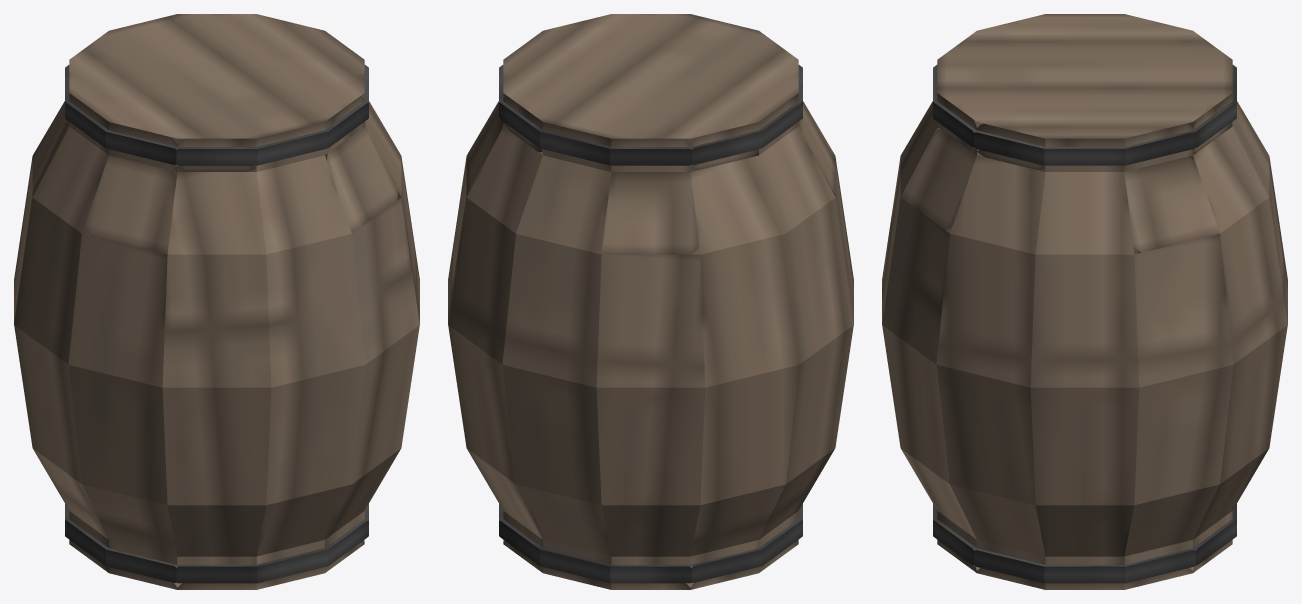
The model's file is Barrel.fbx.
3 views of the same model, side by side, from view 1: azimuth 30°, elevation 25°; view 2: azimuth 150°, elevation 25°; view 3: azimuth 270°, elevation 25° (orthographic).
Parts seen in each view (by area): view 1: cylinder; view 2: cylinder; view 3: cylinder.
Part boxes in pixels (x1,y1,x2,y2): cylinder: (14, 14, 419, 589); cylinder: (448, 14, 853, 589); cylinder: (882, 14, 1287, 589).
Size of the model in its own units: 138 by 169 by 138.
Materials: 1 (1 with a texture image).
